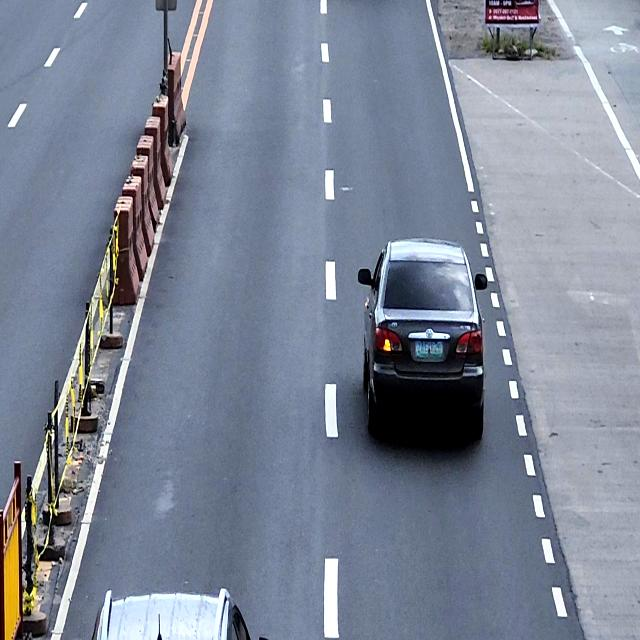Car: (357, 237, 488, 440), (92, 587, 255, 640)
License-Plate: (411, 336, 448, 362)
